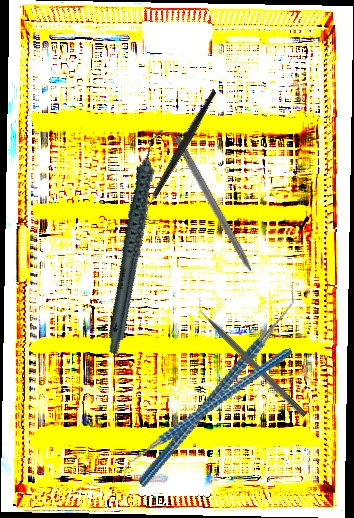Chopper: (90, 279, 346, 488), (97, 347, 314, 484), (110, 88, 253, 221), (190, 295, 314, 418)
Handpiece: (63, 126, 209, 356)
Hook Surgical: (171, 134, 264, 292)
